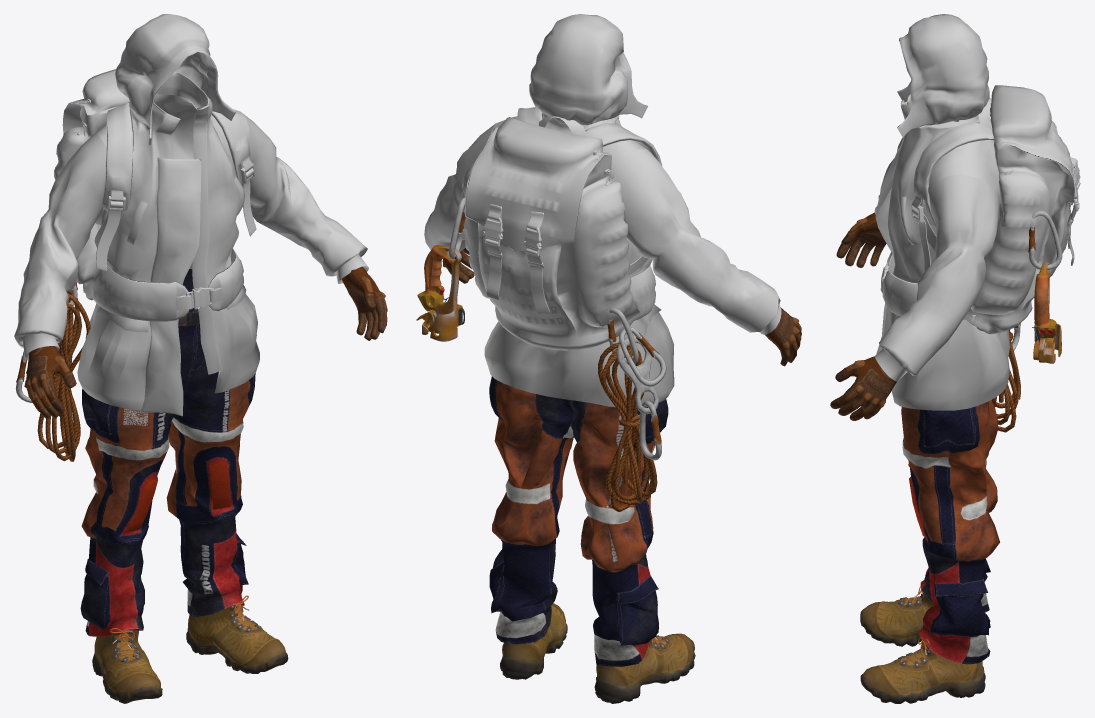
3 views of the same model, side by side, from view 1: azimuth 30°, elevation 25°; view 2: azimuth 150°, elevation 25°; view 3: azimuth 270°, elevation 25° (orthographic).
Visible parts, largest first — view 1: park, paints1, taskalo, cupL, hoduli1, hoduli2, roope, gloverlow, gloverlow1; view 2: taskalo, paints1, park, cupL, roope, hoduli2, polySurface40, hoduli1, gloverlow, polySurface49, polySurface328, polySurface329 (+1 smaller); view 3: park, taskalo, paints1, cupL, hoduli1, hoduli2, gloverlow1, polySurface40, gloverlow, roope, polySurface327.
Boxes of the visible parts, box(x1,y1,x2,y2) form: park: box(14, 71, 368, 416); paints1: box(80, 269, 255, 636); taskalo: box(54, 69, 256, 321); cupL: box(115, 14, 236, 145); hoduli1: box(186, 595, 288, 673); hoduli2: box(92, 628, 162, 703); roope: box(37, 290, 90, 461); gloverlow: box(24, 346, 76, 418); gloverlow1: box(341, 266, 387, 340); taskalo: box(461, 107, 661, 350); paints1: box(489, 376, 668, 666); park: box(424, 113, 781, 407); cupL: box(529, 14, 647, 125); roope: box(598, 342, 657, 511); hoduli2: box(594, 633, 695, 703); polySurface40: box(416, 245, 464, 341); hoduli1: box(500, 603, 567, 679); gloverlow: box(765, 307, 801, 366); polySurface49: box(616, 335, 658, 414); polySurface328: box(619, 327, 666, 386); polySurface329: box(639, 400, 661, 460); park: box(874, 94, 1009, 410); taskalo: box(880, 85, 1080, 334); paints1: box(901, 400, 999, 664); cupL: box(897, 14, 989, 137); hoduli1: box(860, 637, 985, 703); hoduli2: box(860, 577, 932, 646); gloverlow1: box(830, 356, 896, 420); polySurface40: box(1032, 262, 1061, 363); gloverlow: box(836, 212, 886, 267); roope: box(991, 329, 1020, 432); polySurface327: box(1028, 210, 1062, 270).
Size of the model in its own units: 10.79 by 19 by 6.67.
